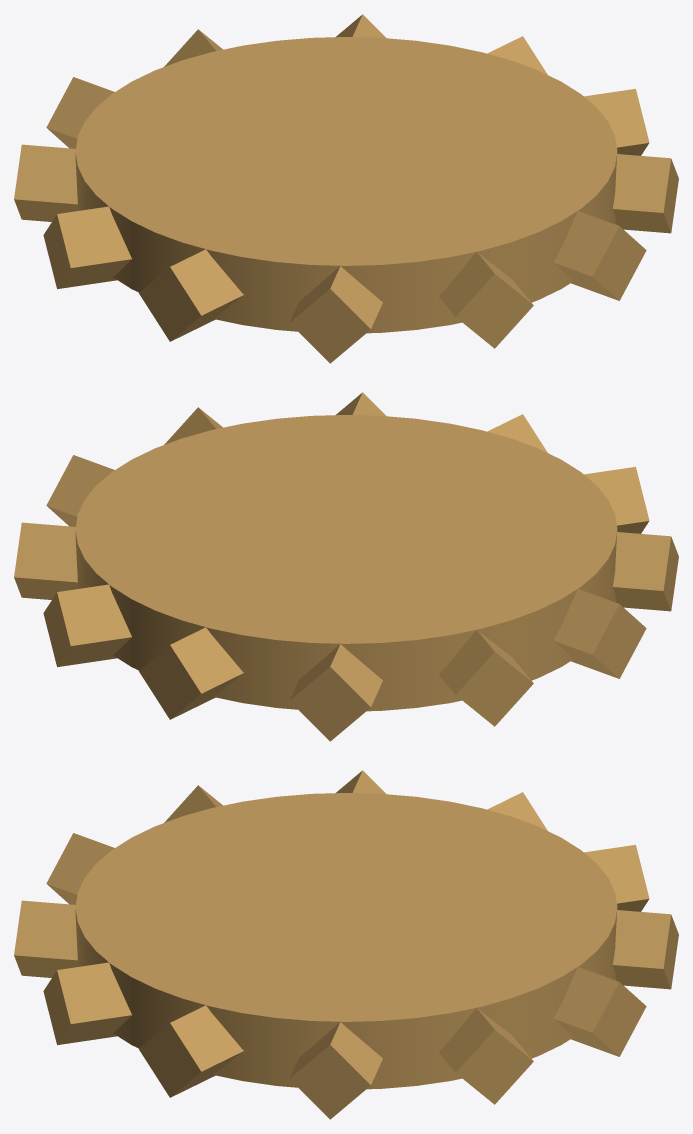
The model's file is Courier.glb.
3 views of the same model, one above another, from view 1: azimuth 30°, elevation 25°; view 2: azimuth 150°, elevation 25°; view 3: azimuth 270°, elevation 25° (orthographic).
Visible parts, largest first — view 1: Ratchet hub, Ratchet tooth (×12); view 2: Ratchet hub, Ratchet tooth (×12); view 3: Ratchet hub, Ratchet tooth (×12).
Boxes of the visible parts, bbox=[...] form: Ratchet hub: bbox=[75, 37, 617, 333]; Ratchet tooth (×12): bbox=[14, 14, 678, 363]; Ratchet hub: bbox=[75, 415, 617, 711]; Ratchet tooth (×12): bbox=[14, 392, 678, 741]; Ratchet hub: bbox=[75, 793, 617, 1089]; Ratchet tooth (×12): bbox=[14, 770, 678, 1119].
Bounding box in the file's own units: 0.4172 × 0.052 × 0.4172.
